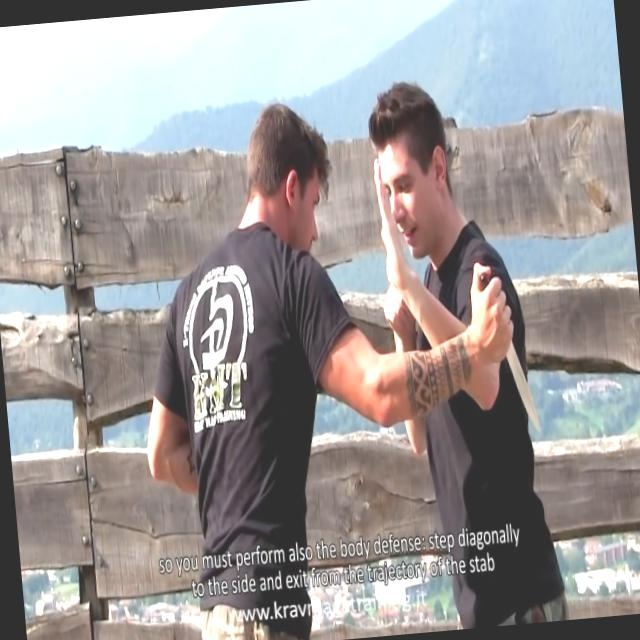knife: (464, 254, 542, 442)
